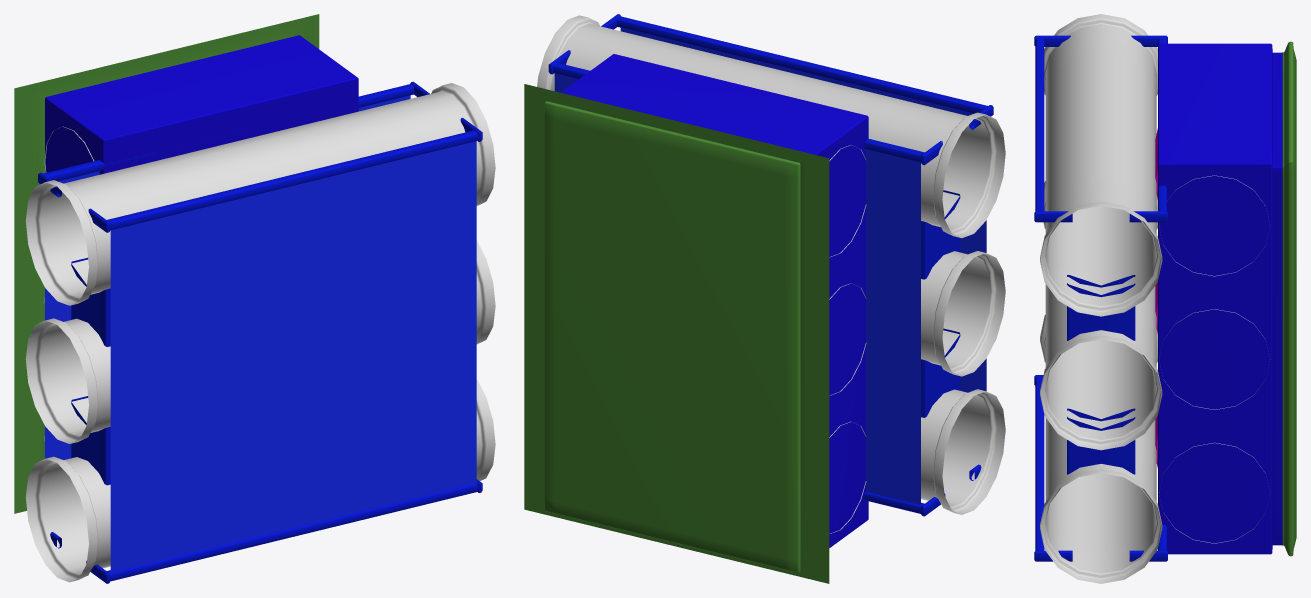
Rendered from HighPressurePipes.fbx.
3 views of the same model, side by side, from view 1: azimuth 30°, elevation 25°; view 2: azimuth 150°, elevation 25°; view 3: azimuth 270°, elevation 25° (orthographic). The views are drawn at different scales.
Visible parts, largest first — view 1: SplinePipes, WallValves; view 2: Cover, SplinePipes, WallValves; view 3: SplinePipes, WallValves, Cover.
Part boxes in pixels (x1,y1,x2,y2): SplinePipes: [25, 81, 495, 583]; WallValves: [14, 14, 358, 513]; Cover: [544, 101, 800, 572]; SplinePipes: [537, 14, 1005, 516]; WallValves: [524, 54, 868, 583]; SplinePipes: [1034, 14, 1167, 583]; WallValves: [1155, 43, 1282, 554]; Cover: [1272, 41, 1296, 556].
Size of what is drawn, in the model's own units: 400 by 400 by 231.
3 materials, 1 textured.
